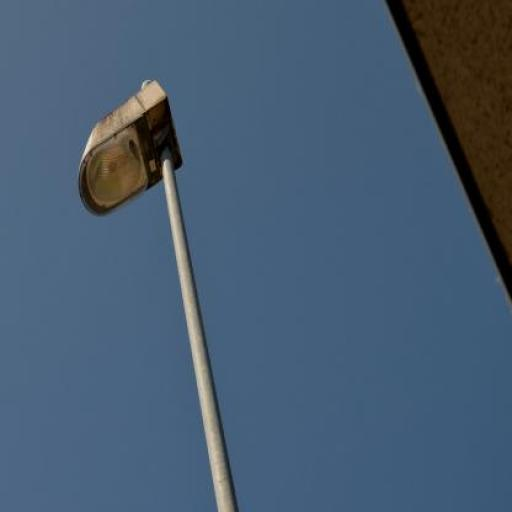street light: (78, 79, 238, 511)
